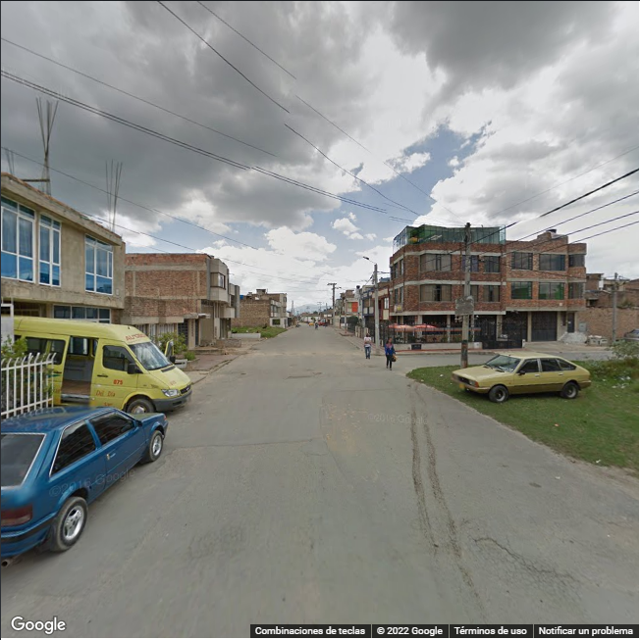D20: (464, 527, 595, 615)
